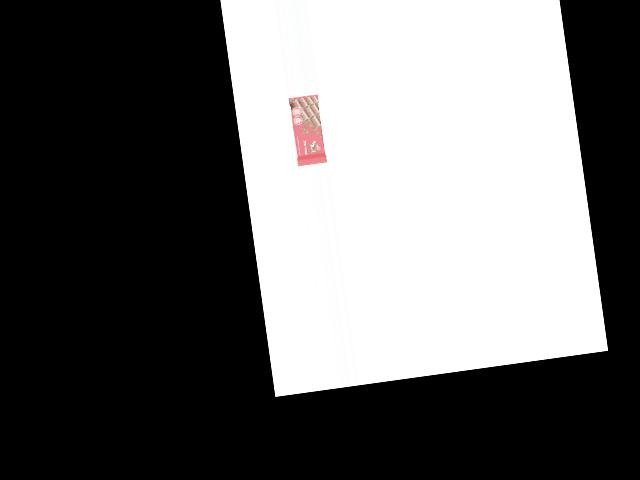chocolate: (288, 94, 327, 167)
